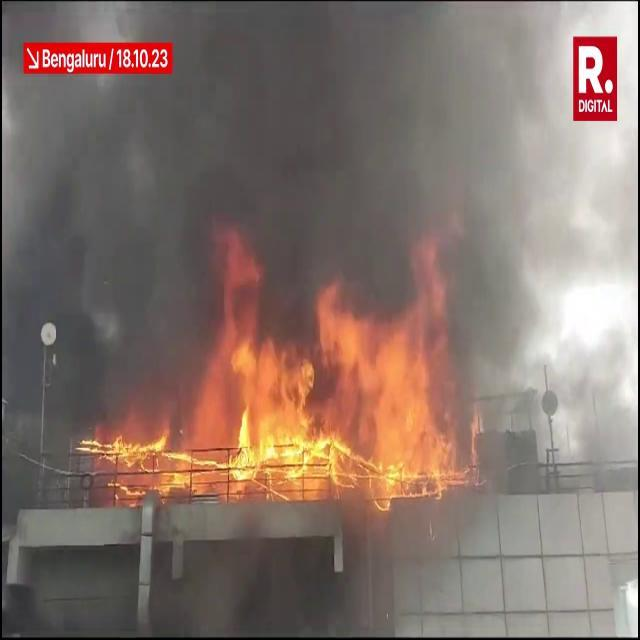Fire: (95, 264, 463, 502)
Smoke: (8, 2, 568, 370)
